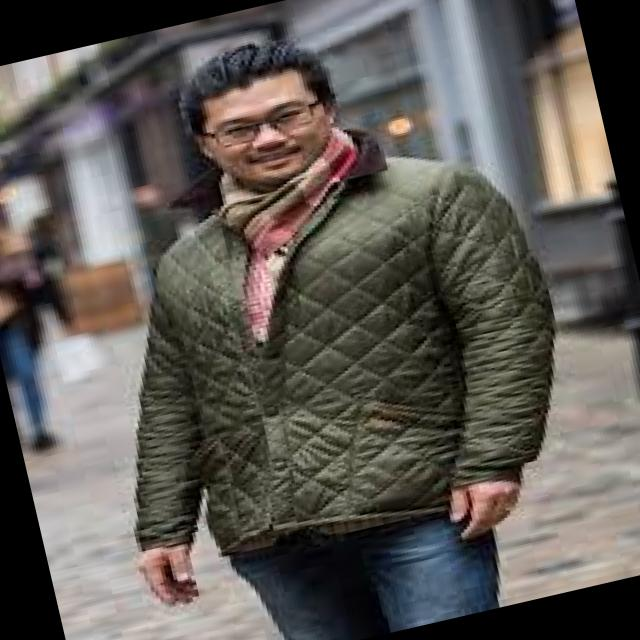Jacket: (56, 112, 564, 570)
